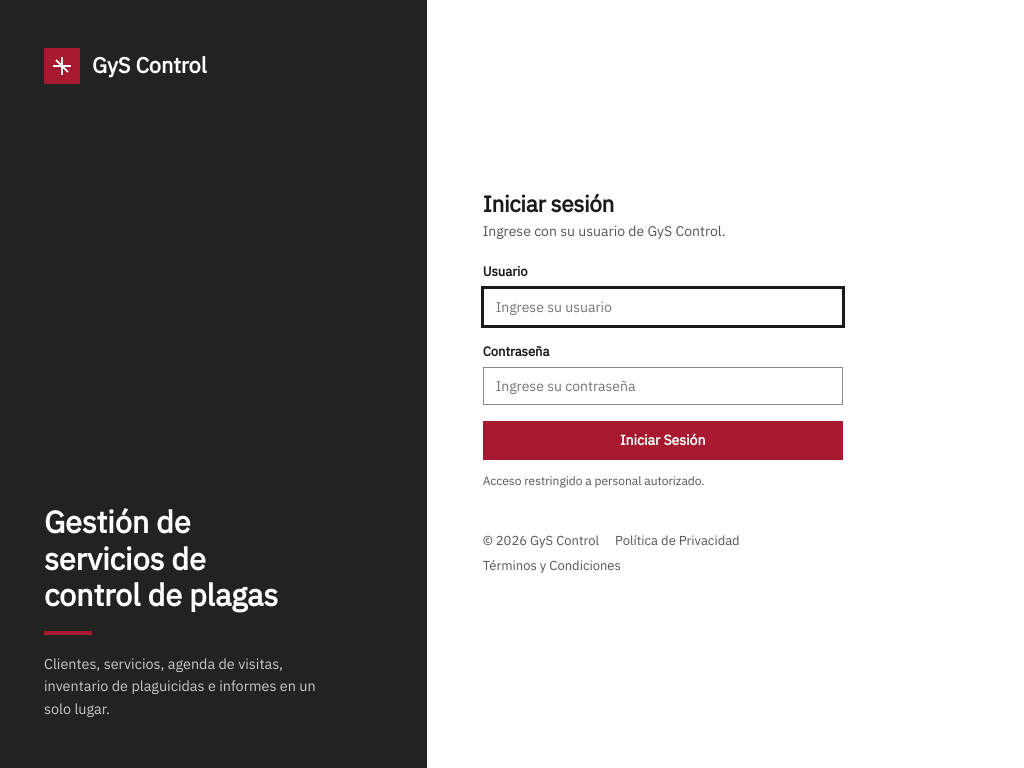
Test case: LoginPage › con credenciales incorrectas muestra el error como alerta
This screenshot has width=1024, height=768.
Step 1. Type "tecnico1" into the field labelled "Usuario" → (663, 307), box [483,288,843,326]
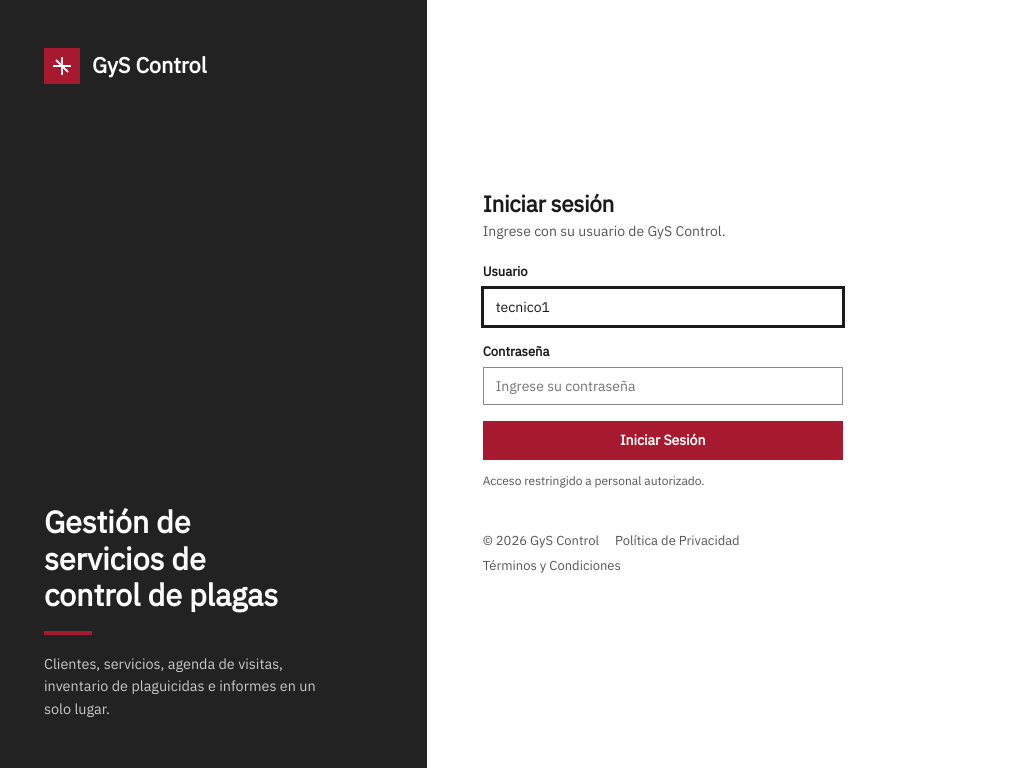
Step 2. Type "mala" into the password field labelled "Contraseña" → (663, 386), box [483,367,843,405]
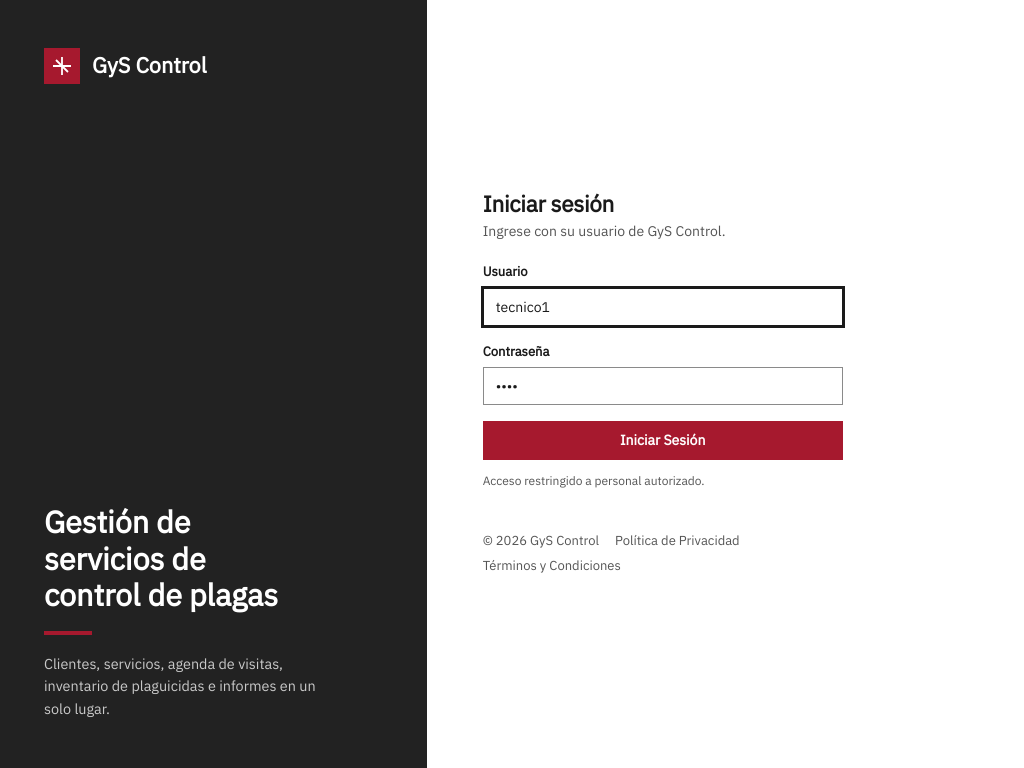
Step 3. Click the button "Iniciar Sesión" → (663, 441), box [483,421,843,460]
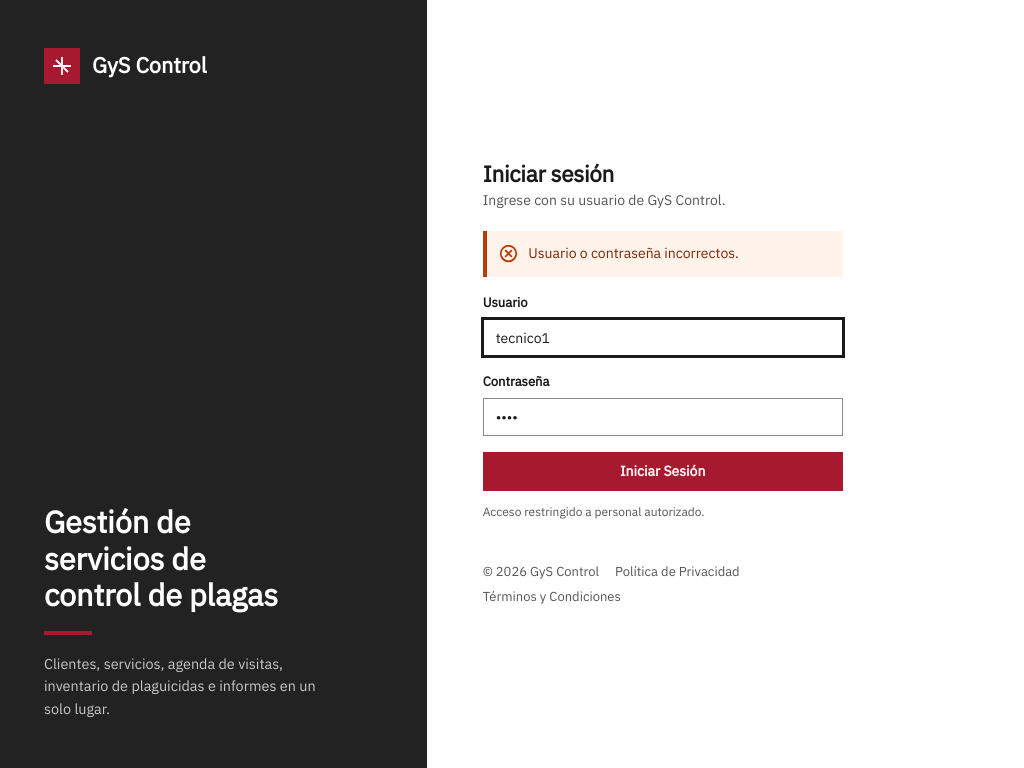
Expected: the message reads "Usuario o contraseña incorrectos.", [528,244,739,262]
